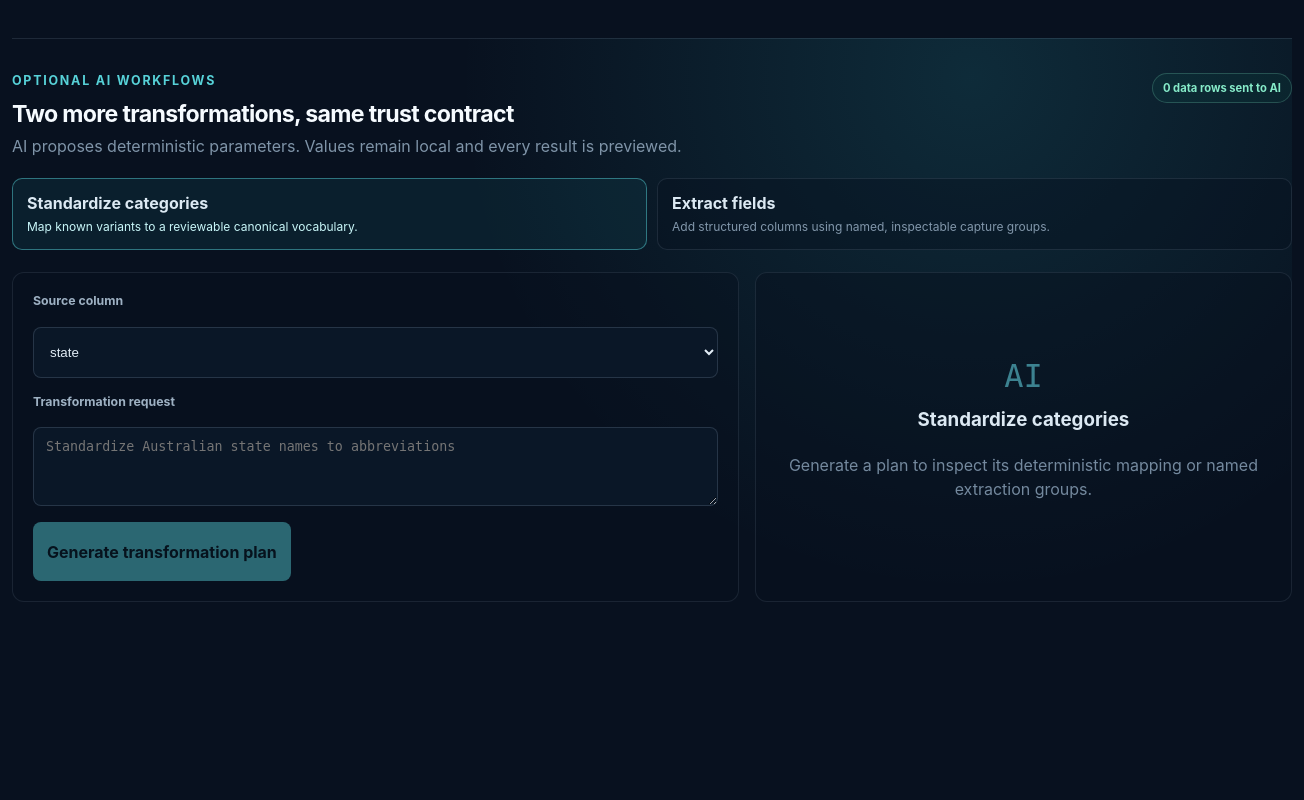
OptionalTransforms › chooses workflow-friendly source column defaults
The width and height of the screenshot is (1304, 800).
Expected: the dropdown labelled "Source column" shows "state", top-left (33, 327), bottom-right (718, 378)
Click the button "Extract fields": (724, 203) top-left (657, 178), bottom-right (1292, 250)
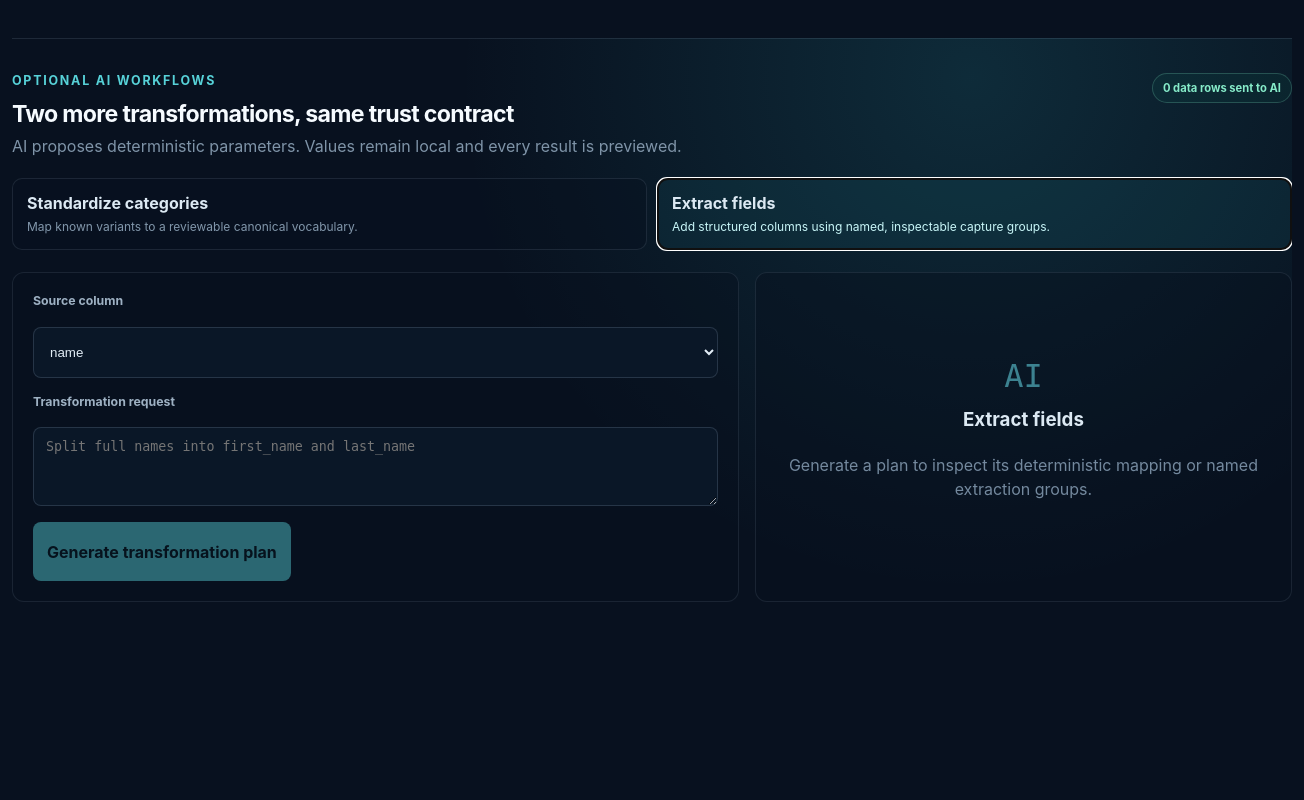
Expected: the dropdown labelled "Source column" shows "name", top-left (33, 327), bottom-right (718, 378)
